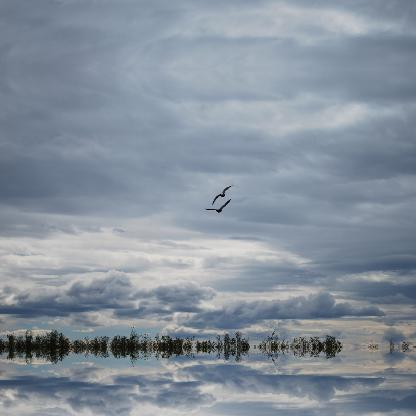Bird: (210, 180, 232, 204), (204, 198, 234, 214)
